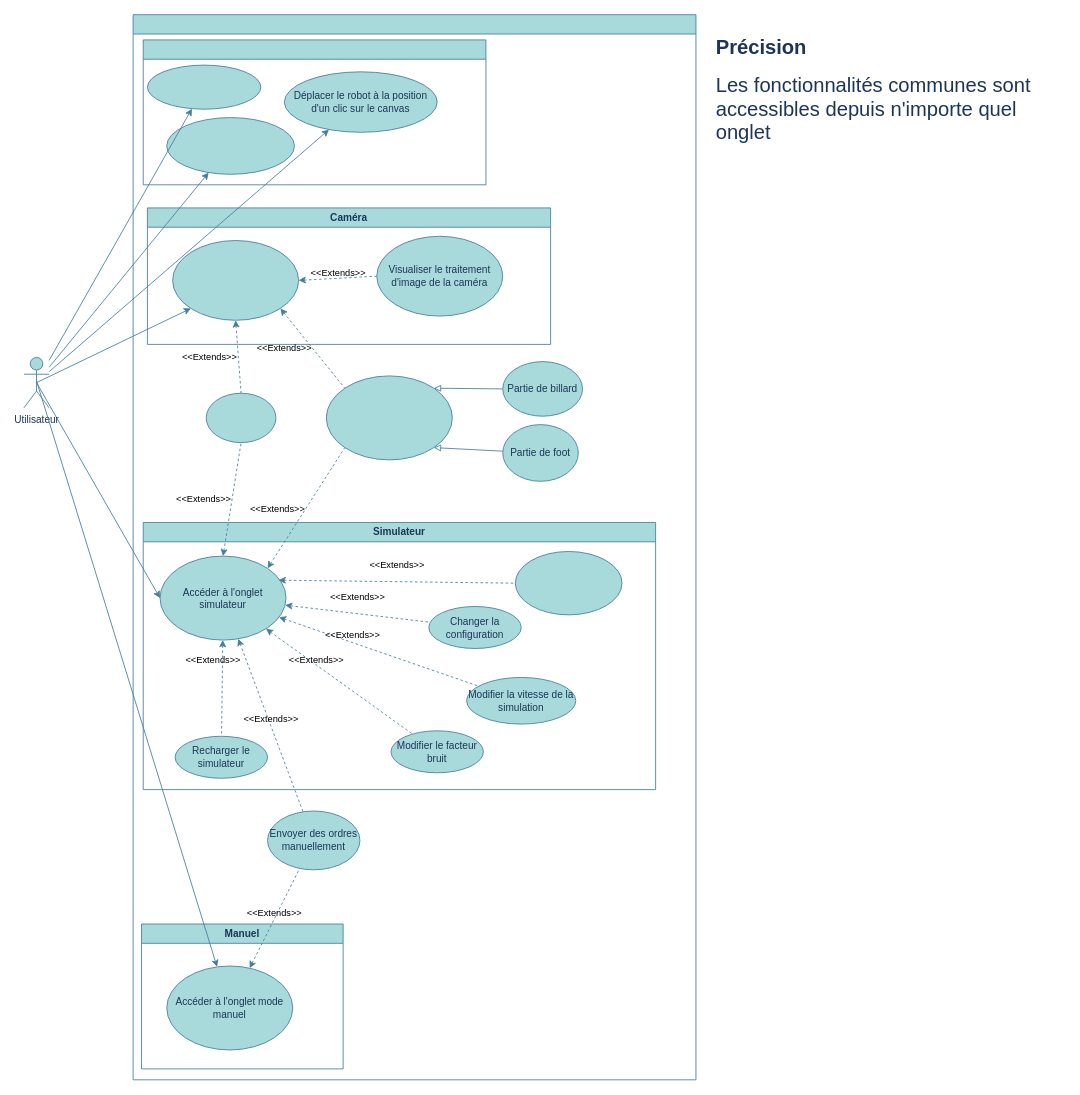
Some shapes in this 1080 by 1095 pixel diagram are drawn without their labels. Here are the shapes that lost their labels. From the top down, the box of each, then its label:
(147, 64, 261, 109): Changer de robot courant
(142, 39, 486, 185): Fonctionnalités communes
(166, 117, 294, 174): Désactiver / Activer les dessins sur le canvas
(172, 240, 299, 320): Accéder à l'onglet caméra
(205, 392, 276, 443): Lancer un scénario
(326, 375, 452, 460): Changer le scénario selectionné
(132, 14, 696, 1080): SI - Interface Web
(514, 551, 622, 615): Déplacer manuellement les éléments
